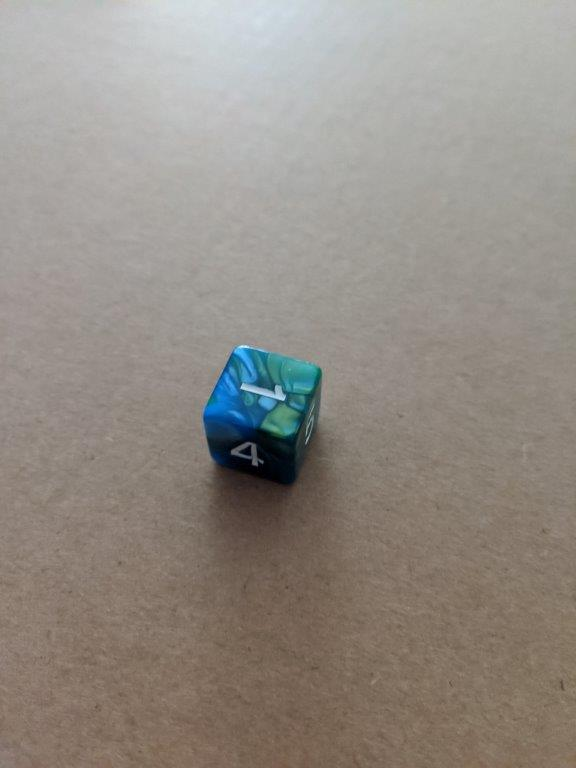d6-1: (198, 341, 324, 487)
